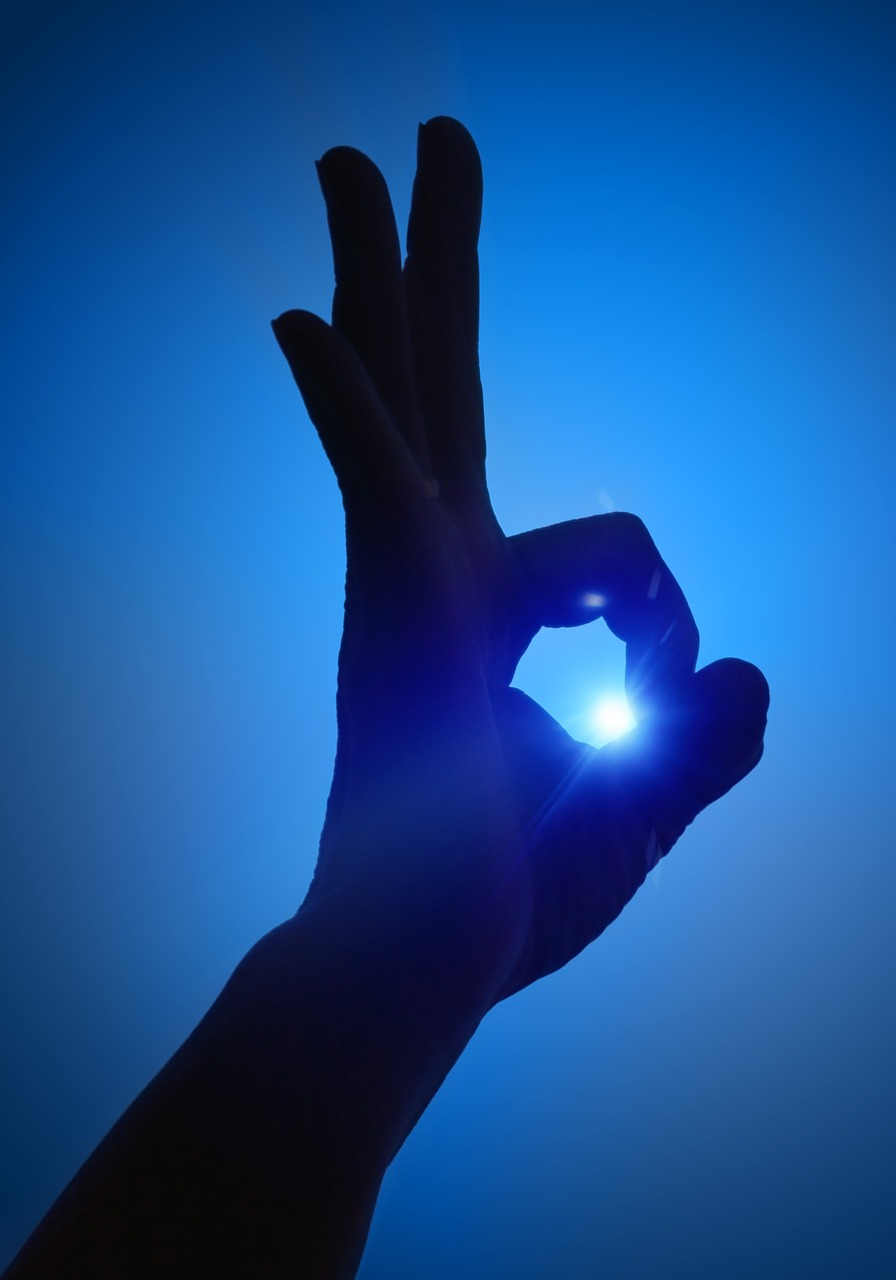oksign: (340, 338, 771, 979)
